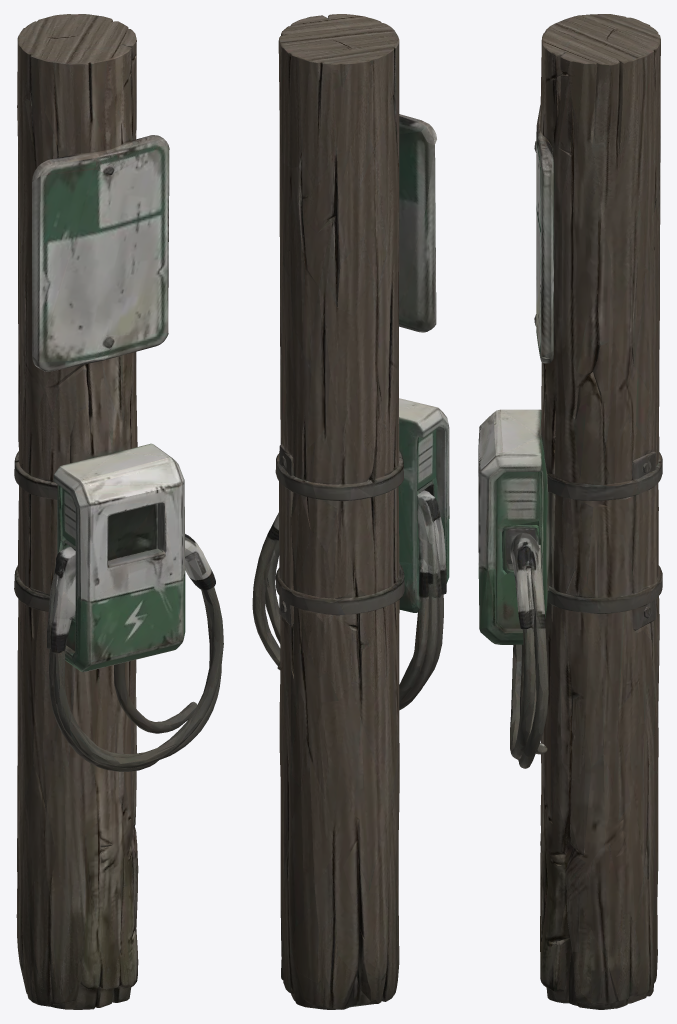
The model's file is kerbside_charger.glb.
3 renders of one model, left to right at view 1: azimuth 30°, elevation 25°; view 2: azimuth 150°, elevation 25°; view 3: azimuth 270°, elevation 25°, orthographic.
Size of the model in its own units: 0.388 by 1.9 by 0.3355.
1 material, 1 textured.
